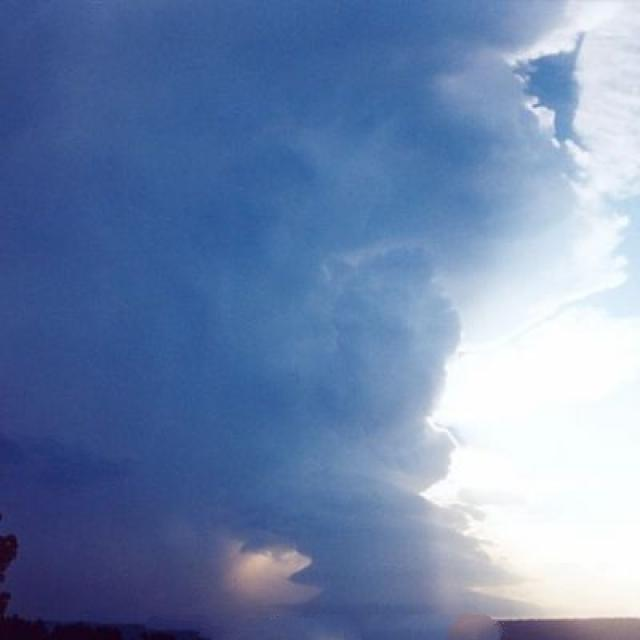Cb: (12, 1, 640, 489)
